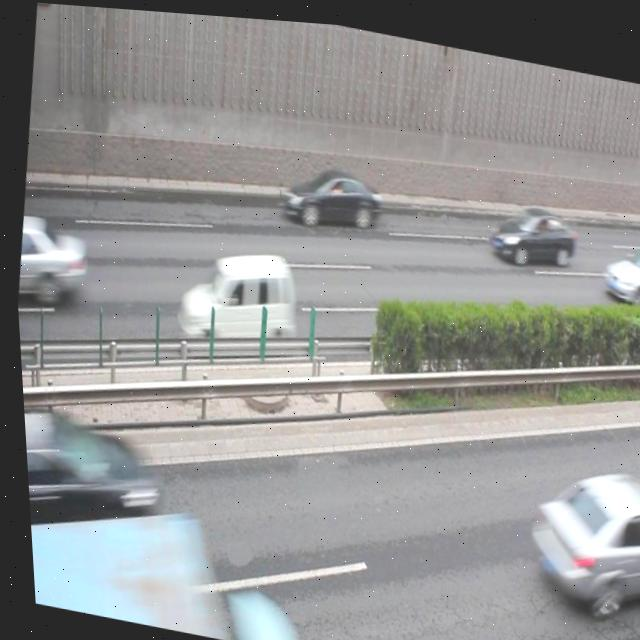car: (513, 450, 640, 612), (170, 236, 301, 358), (280, 155, 382, 231), (10, 211, 87, 309), (486, 195, 575, 266), (595, 229, 640, 301)
